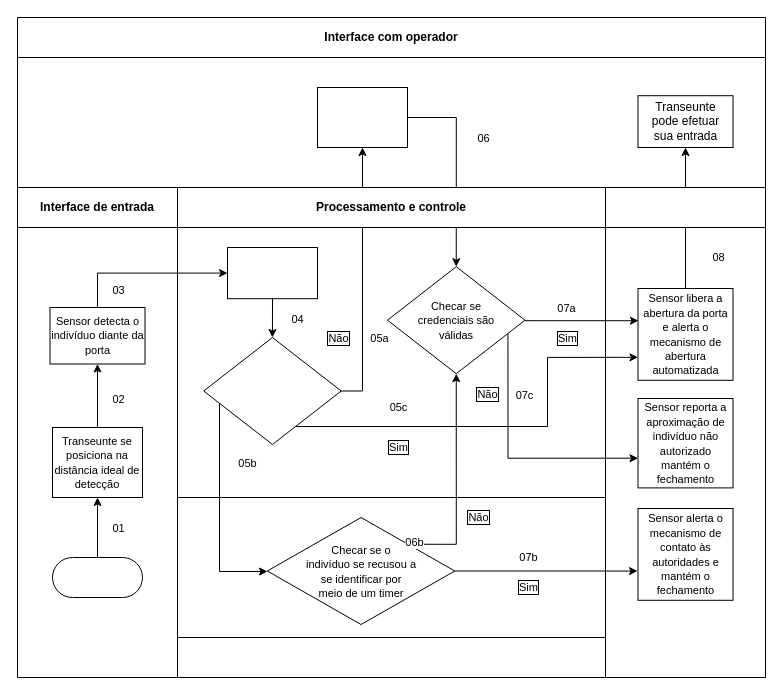
This 783x695 diagram has some shape labels left out. The centre of each missing label's shape, as x and y in pixels:
"Interface de diagnóstico" goes at point (391, 657).
"Interface de saída" goes at point (685, 432).
"Requisitar confirmação de credenciais ao indivíduo" goes at point (362, 117).
"Se a aproximação ocorrer em horário de funcionamento" goes at point (272, 390).
"Sensor checa o horário de operação" goes at point (272, 272).
"Transeunte se aproxima" goes at point (97, 577).
